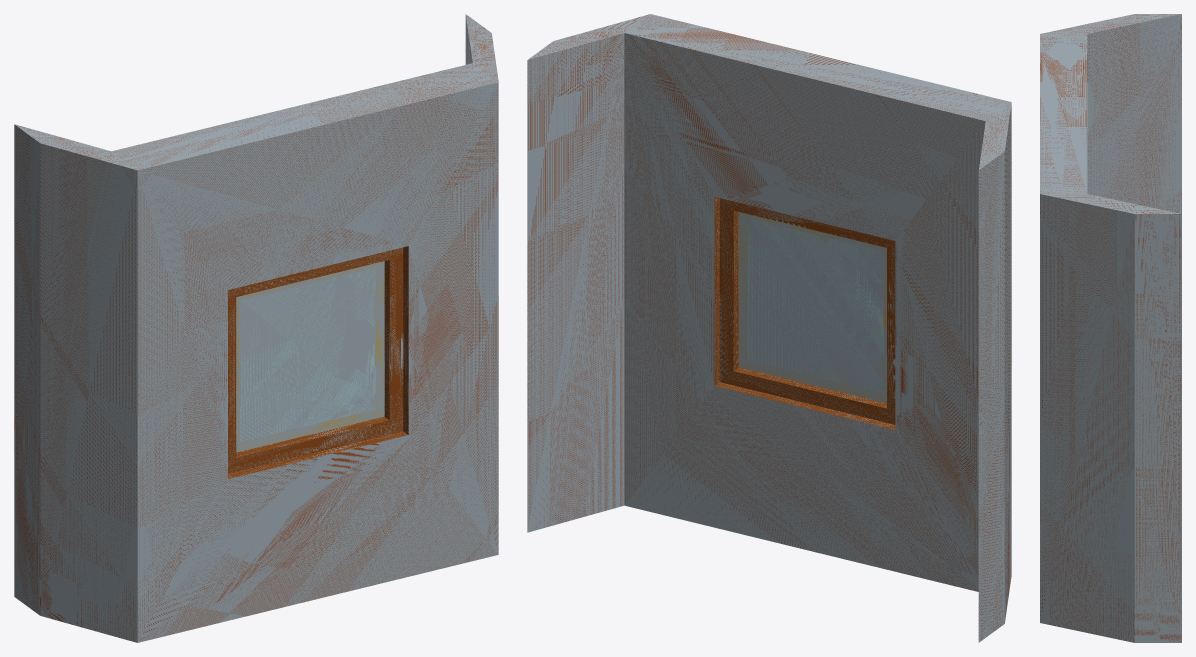
The model's file is window_bay_4_small.fbx.
3 views of the same model, side by side, from view 1: azimuth 30°, elevation 25°; view 2: azimuth 150°, elevation 25°; view 3: azimuth 270°, elevation 25° (orthographic). The views are drawn at different scales.
Parts seen in each view (by area): view 1: Mesh1_window_18_1 Model; view 2: Mesh1_window_18_1 Model; view 3: Mesh1_window_18_1 Model.
Boxes of the visible parts, x1,y1,x2,y2 form: Mesh1_window_18_1 Model: [14, 14, 498, 642]; Mesh1_window_18_1 Model: [527, 14, 1011, 642]; Mesh1_window_18_1 Model: [1040, 14, 1181, 642].
Size of the model in its own units: 1 by 1 by 0.3.
